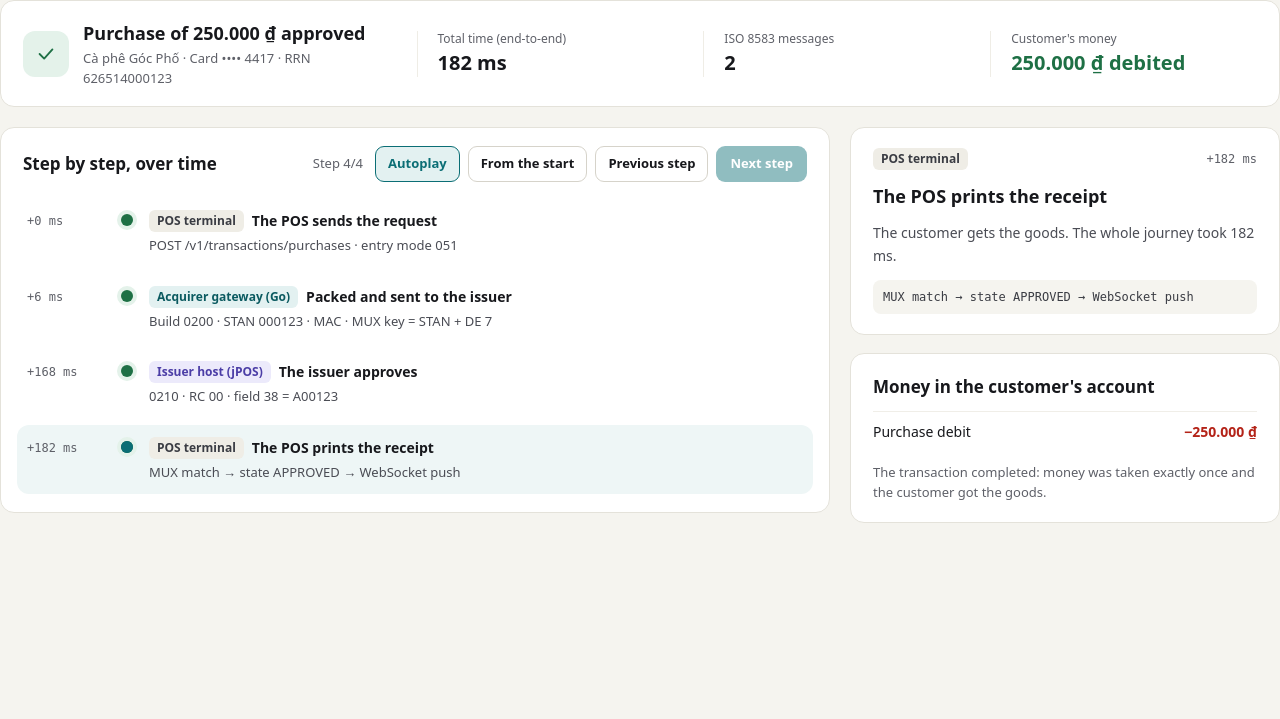
Test: JourneyView (MCN-307: summary, timeline, detail, money as in the design) › switches the timeline and field names to technical copy in Expert mode
Click the text "Issuer host (jPOS)". click: x=210, y=372
box: left=149, top=361, right=271, bottom=383
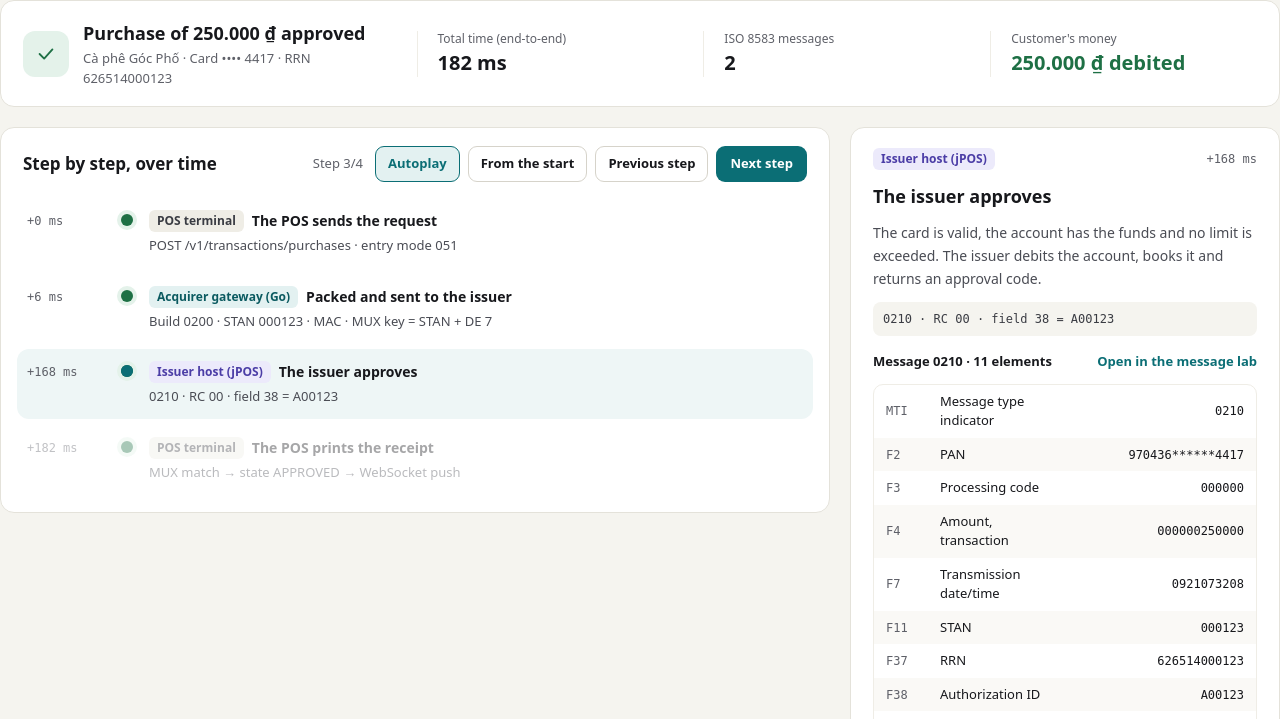
Check: the text "Message 0210 · 11 elements" is shown, box left=873, top=352, right=1052, bottom=372
Check: the text "F38" is shown, box left=886, top=688, right=908, bottom=702
Check: the text "Authorization ID" is shown, box left=940, top=685, right=1040, bottom=703
